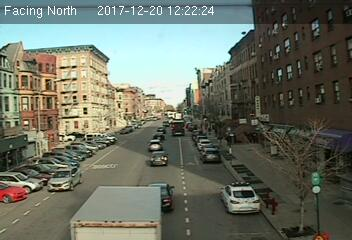car: (46, 166, 84, 192), (148, 181, 176, 211), (200, 146, 221, 163), (148, 151, 170, 167), (146, 140, 164, 152)
police: (218, 181, 265, 215)
ups: (171, 119, 185, 137)
